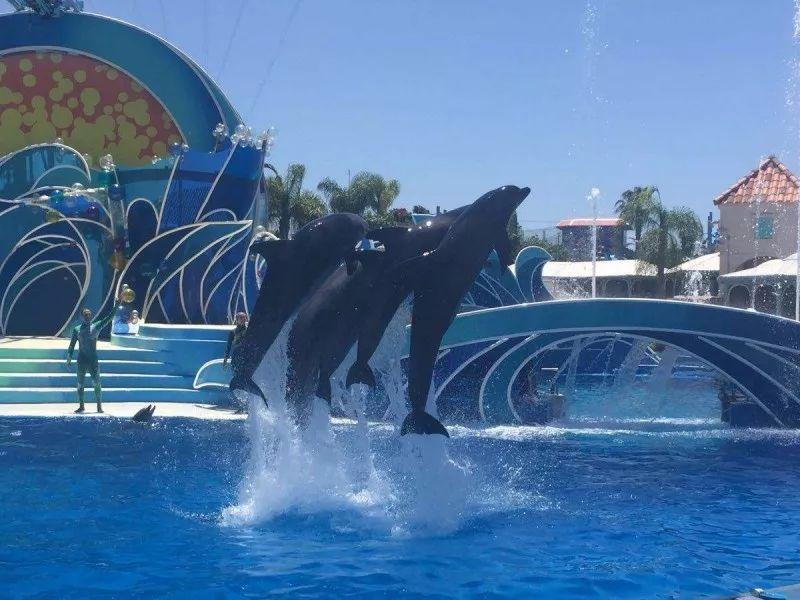fish: (285, 203, 461, 429), (395, 182, 534, 436), (222, 209, 370, 402)
